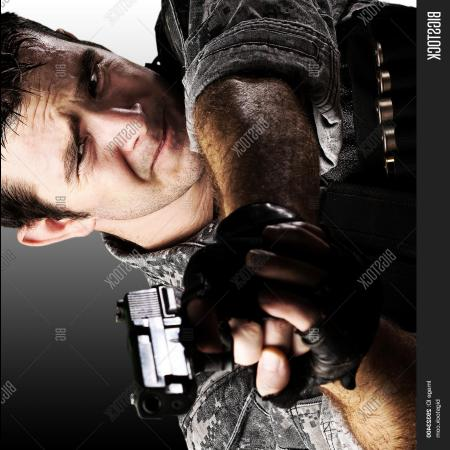Pistol: (113, 278, 261, 420)
